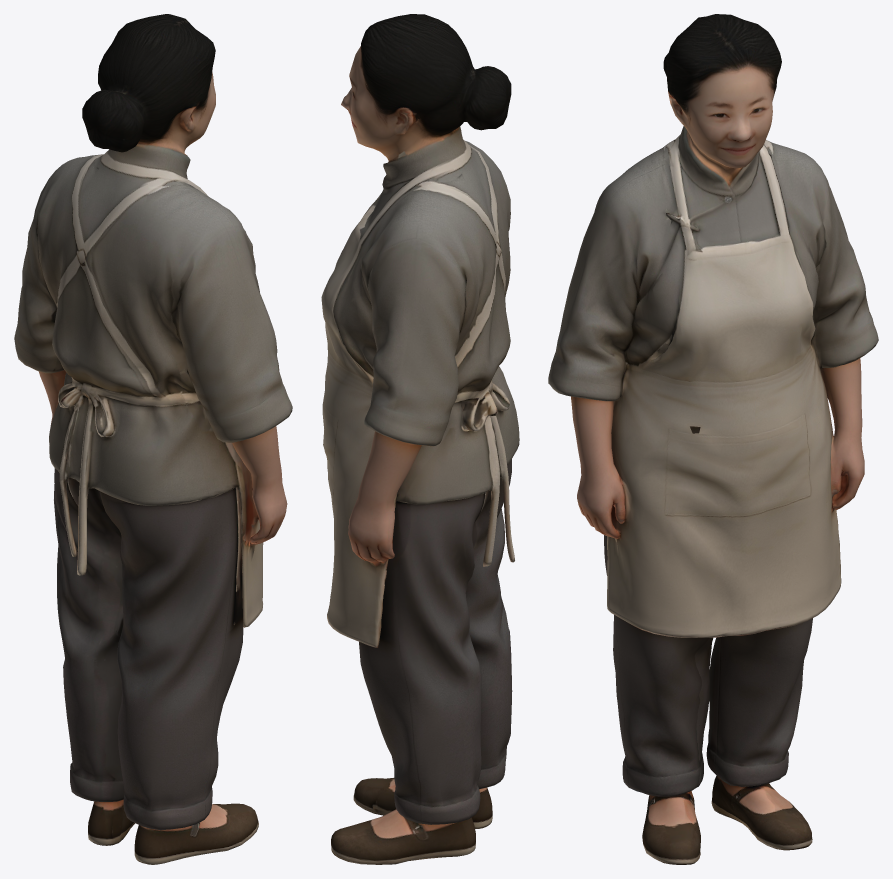
The picture shows the model from 3 angles, left to right: view 1: azimuth 30°, elevation 25°; view 2: azimuth 150°, elevation 25°; view 3: azimuth 270°, elevation 25°; orthographic projection.
Visible parts, largest first — view 1: tripo_node_745338b1; view 2: tripo_node_745338b1; view 3: tripo_node_745338b1.
Part boxes in pixels (<box>): tripo_node_745338b1: <box>14,14,292,864</box>; tripo_node_745338b1: <box>321,14,519,864</box>; tripo_node_745338b1: <box>548,14,878,864</box>.
Size of the model in its own units: 0.2204 by 0.9792 by 0.3608.
